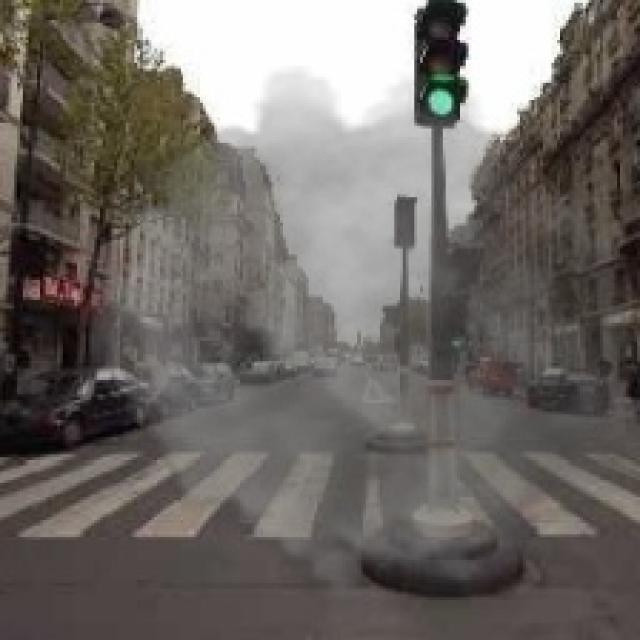smoke: (89, 66, 626, 617)
